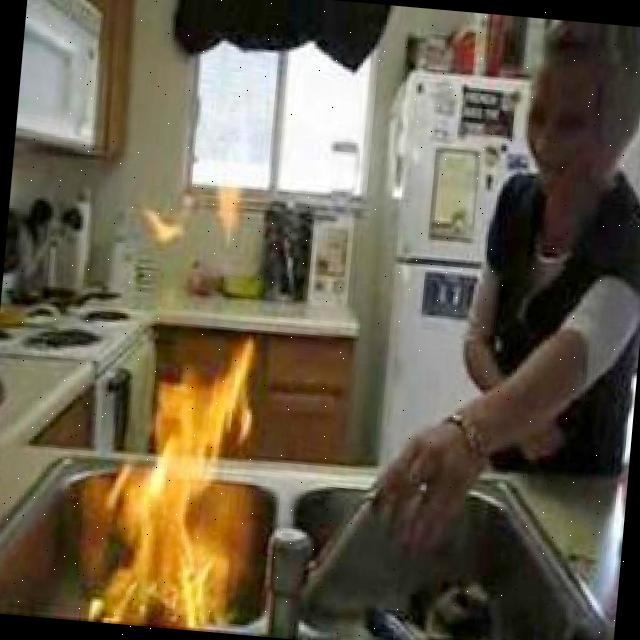fire: (93, 323, 270, 634), (133, 169, 259, 262)
